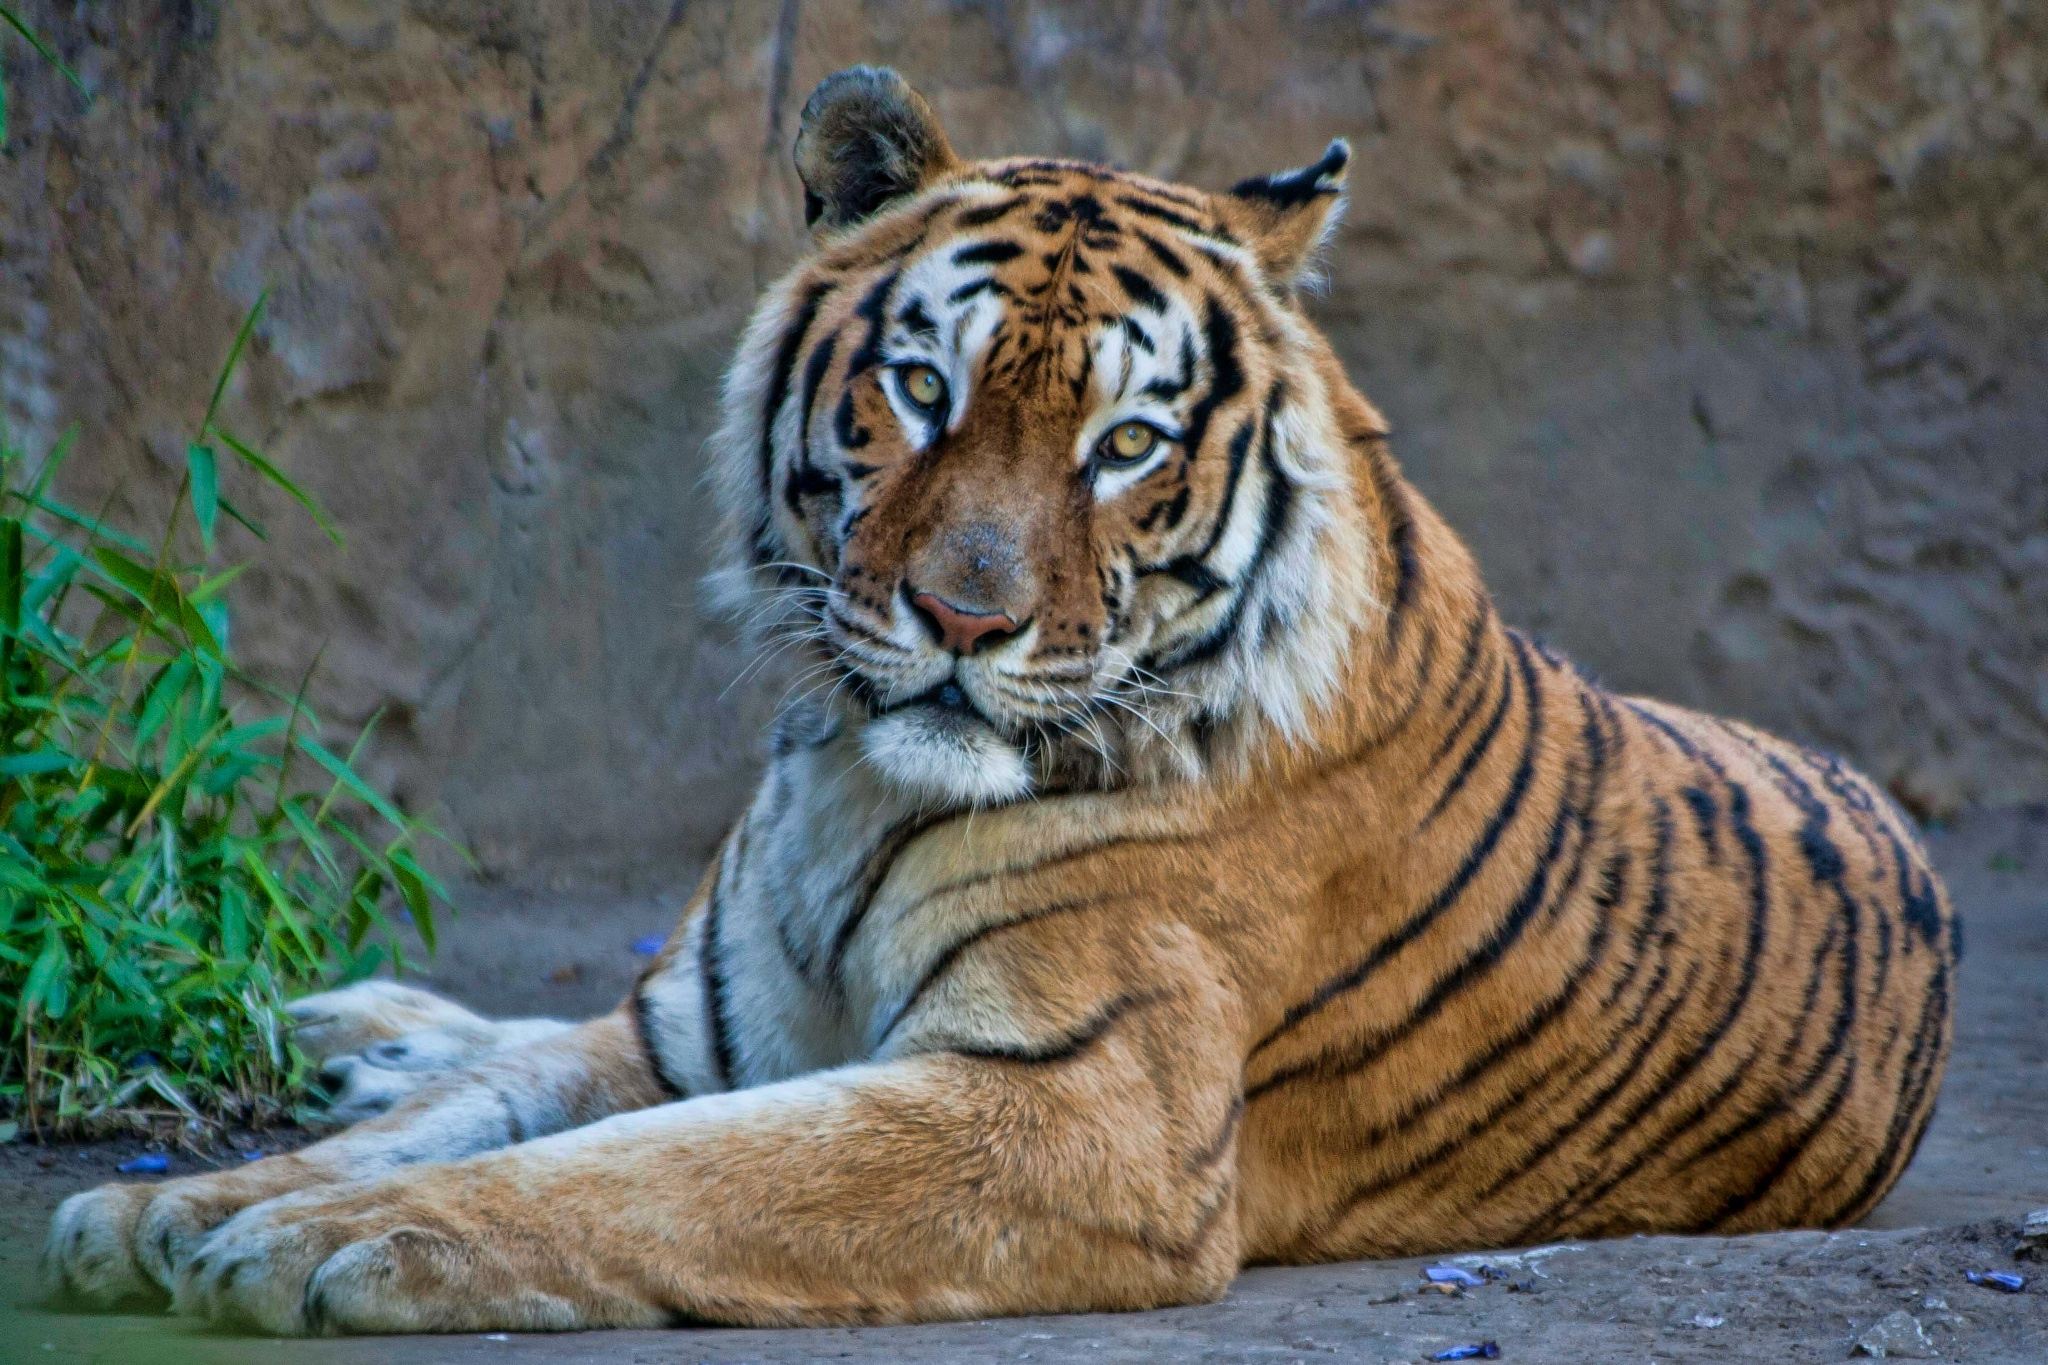tiger: (332, 58, 1951, 1283)
